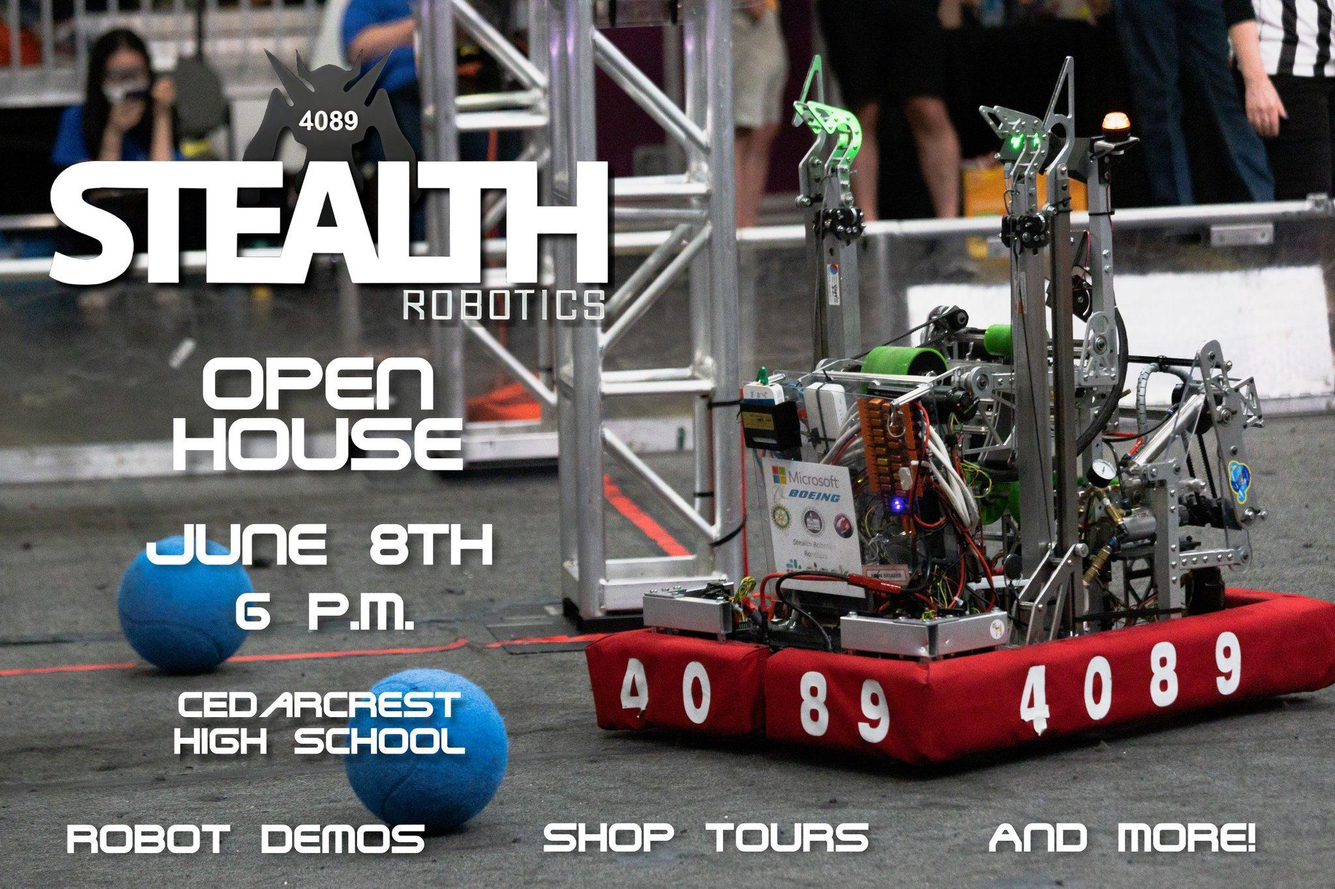robot: (587, 46, 1335, 762)
